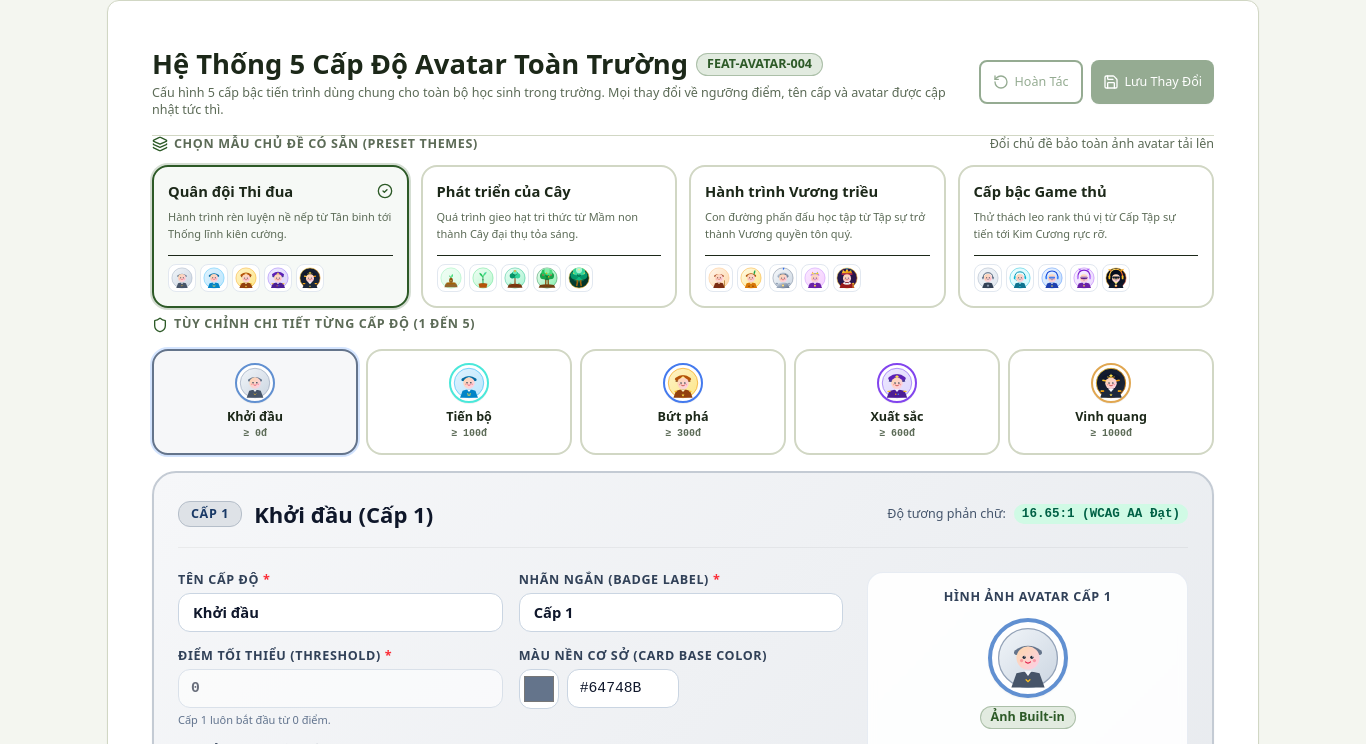
Scenario: SettingsPage 5-Level Avatar & Asset Reuse Tests (FEAT-AVATAR-004) › 3. Prompts user with options when changing preset theme while having custom avatars
The image size is (1366, 744).
Click the text "Tiến bộ".
click(469, 416)  # box [446,408,492,425]
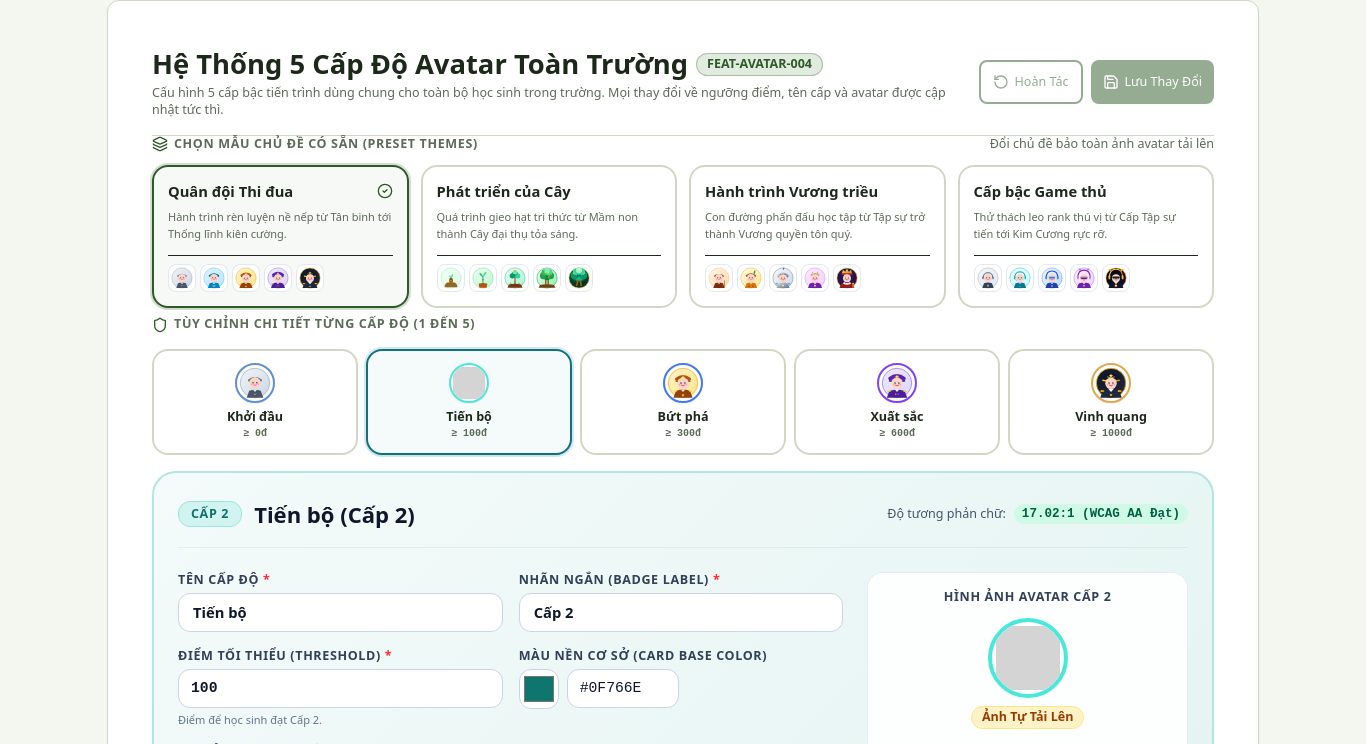
Result: the text "Ảnh Tự Tải Lên" is shown at [971,706,1084,728]
Note: Click on "Phát triển của Cây" preset card
Click the element with test id "preset-theme-plant_growth".
click(549, 236)  # box [420,164,677,308]
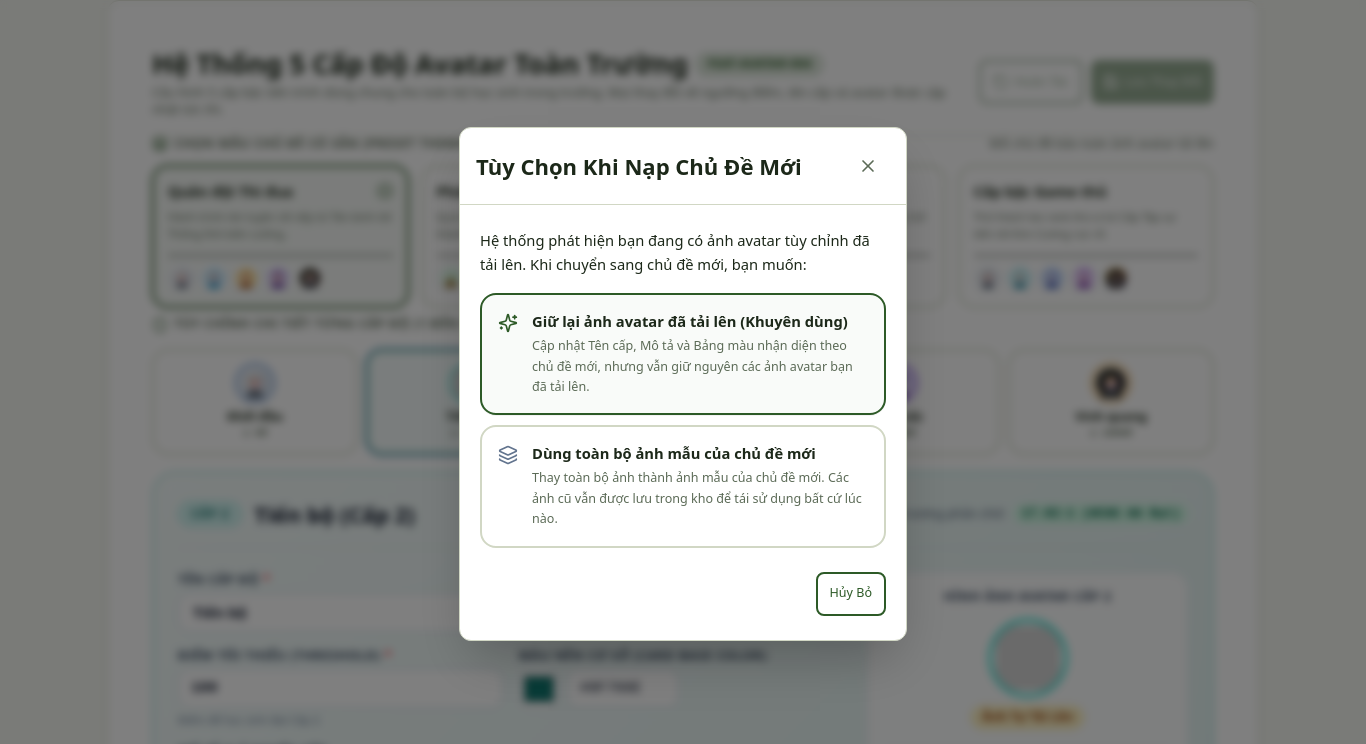
Result: the heading "Tùy Chọn Khi Nạp Chủ Đề Mới" is shown at [476,149,802,184]
Result: the text "Giữ lại ảnh avatar đã tải lên (Khuyên dùng)" is shown
Result: the text "Dùng toàn bộ ảnh mẫu của chủ đề mới" is shown at [532,443,816,463]
Note: Choose "Giữ lại ảnh avatar đã tải lên"
Click the text "Giữ lại ảnh avatar đã tải lên (Khuyên dùng)".
click(700, 322)  # box [532,311,868,332]
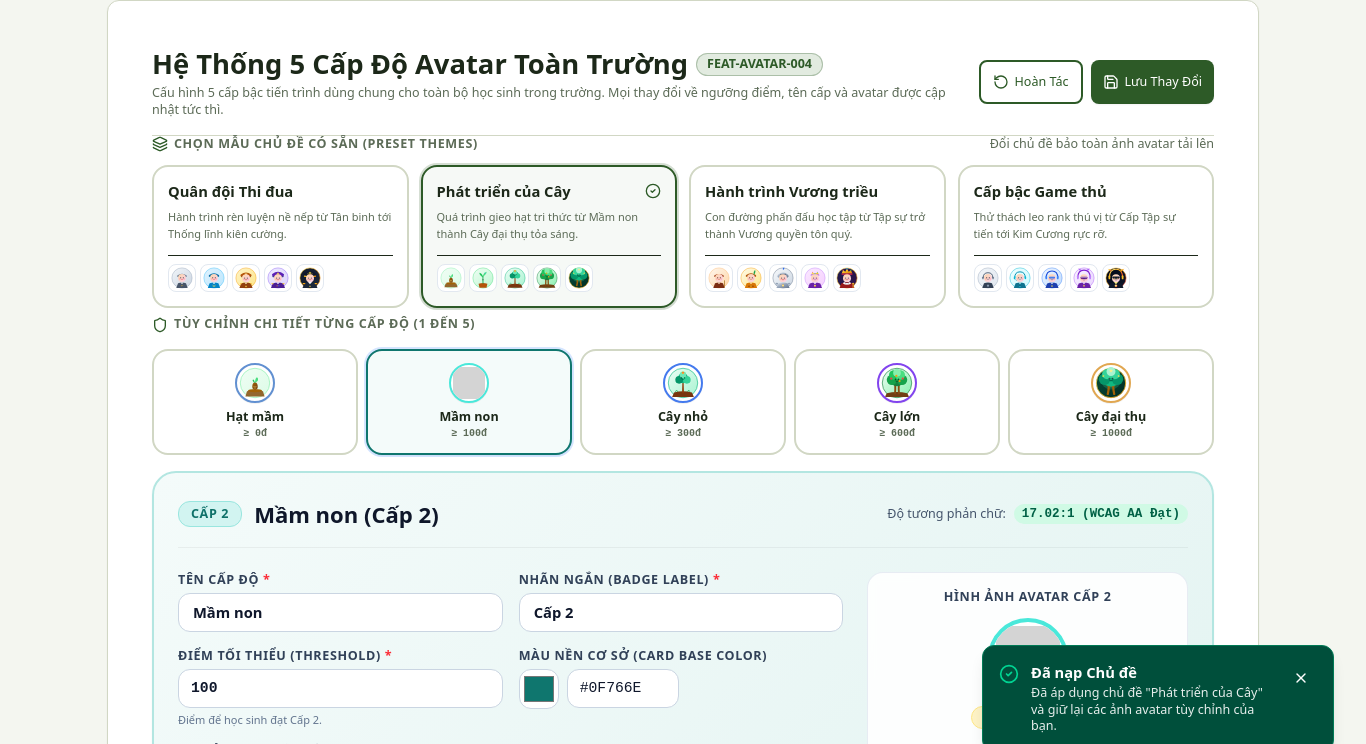
Result: the text "Ảnh Tự Tải Lên" is shown at [971,706,1084,728]
Result: the heading "Mầm non (Cấp 2)" is shown at [254,497,439,531]
